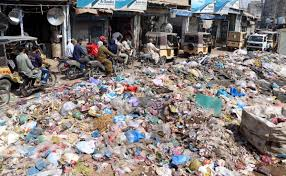garbage: (92, 78, 286, 175), (1, 109, 286, 175), (35, 94, 242, 176), (136, 69, 286, 175), (178, 62, 286, 173), (199, 55, 286, 174)
